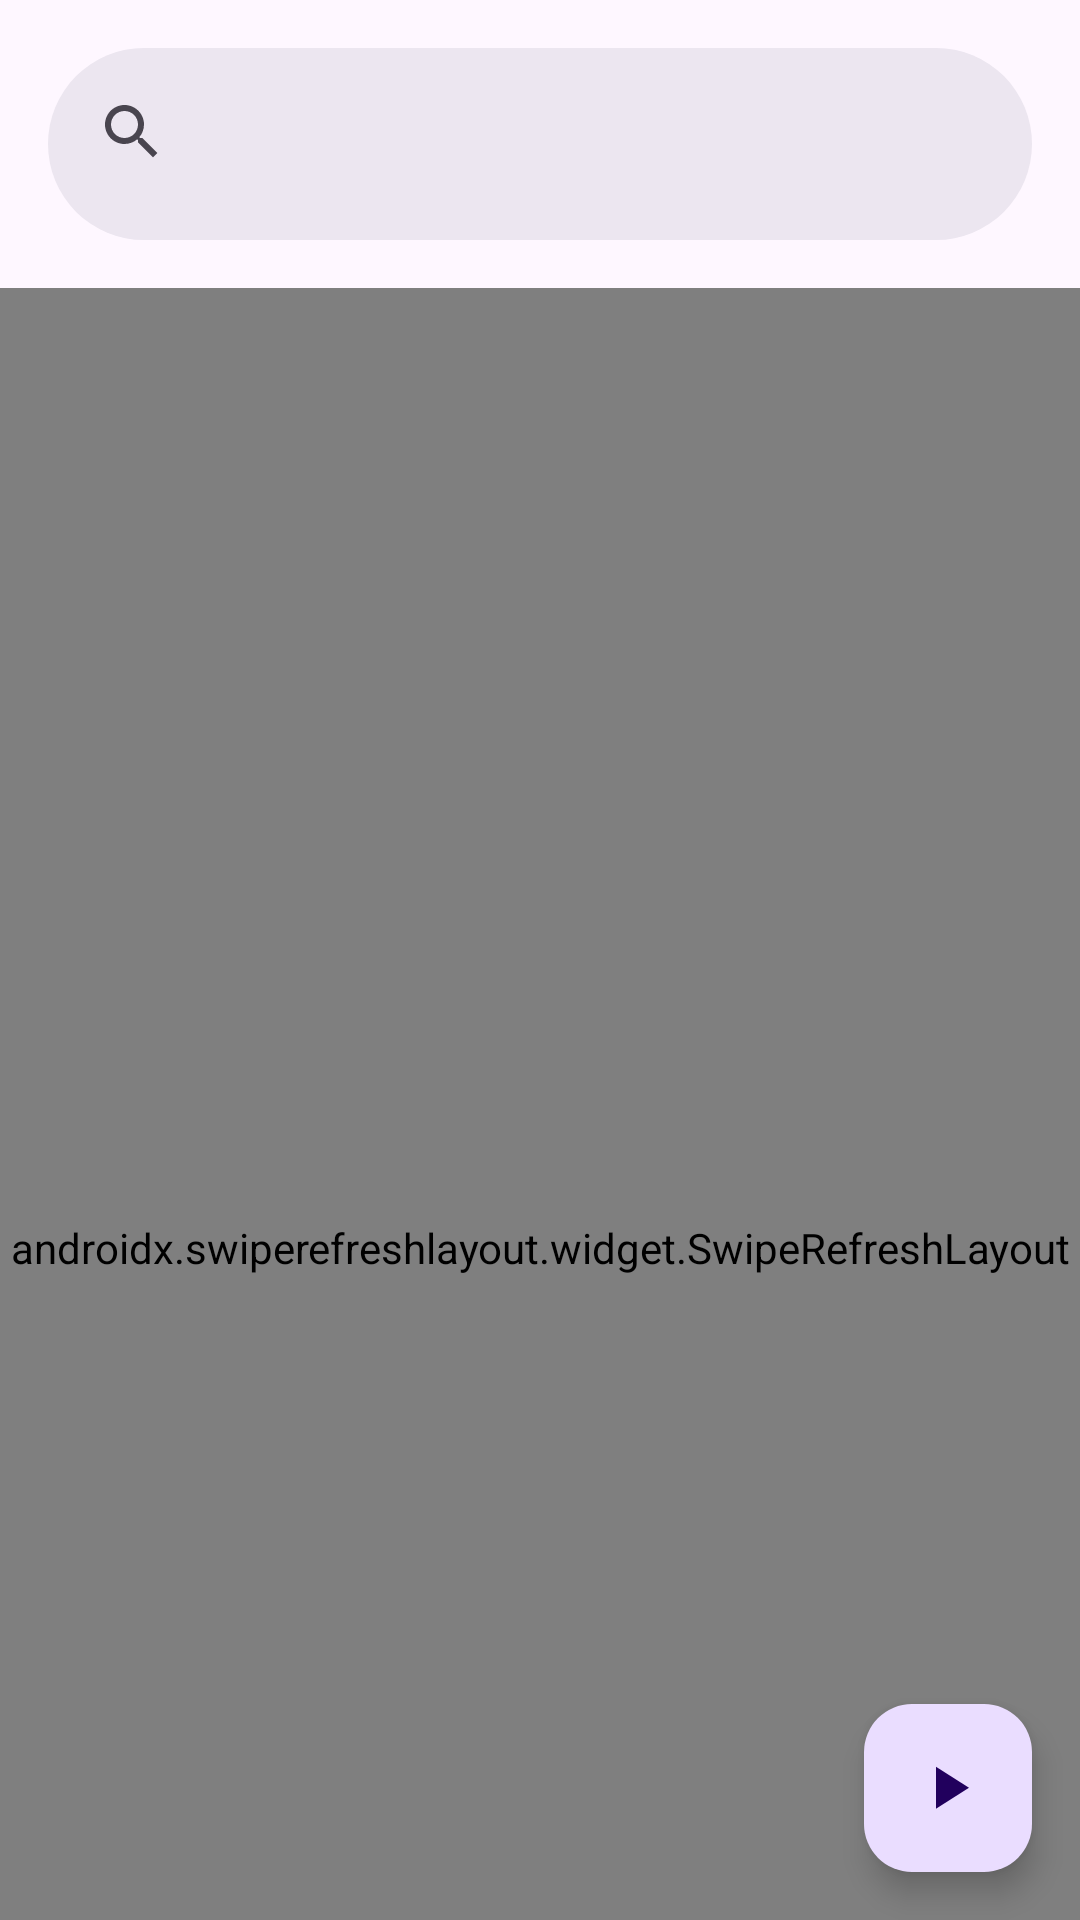

Icons on this 1080x1920 Android screen, each with the point to tap as [x,y]:
mediacontroller play arrow: [948,1788]
